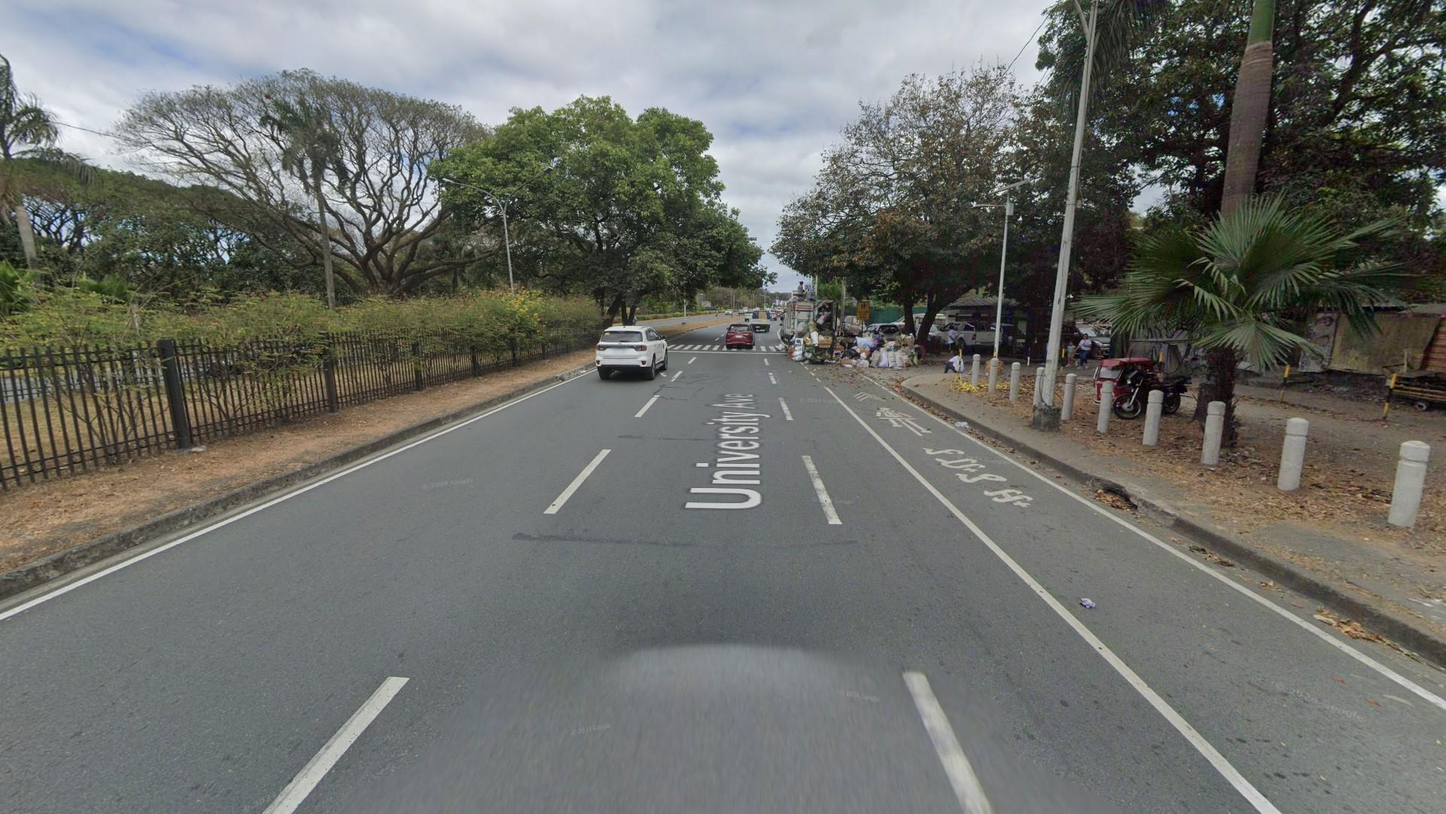pedestrian: (1075, 333, 1092, 370), (943, 350, 965, 374), (1063, 340, 1076, 368), (796, 280, 806, 300)
